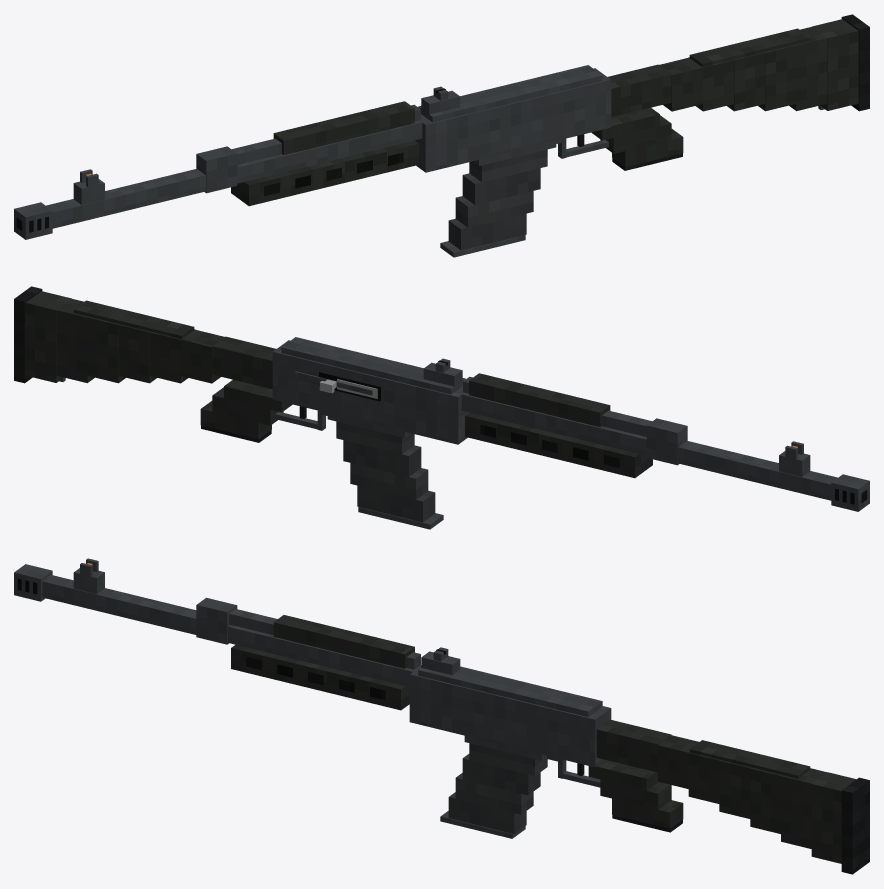
The model's file is Sayan12.glb.
The picture shows the model from 3 angles, top to bottom: view 1: azimuth 30°, elevation 25°; view 2: azimuth 150°, elevation 25°; view 3: azimuth 330°, elevation 25°; orthographic projection.
Visible parts, largest first — view 1: Receiver, Barrel, Lower handguard, Upper handguard, Dust cover, Stock step 5, Stock neck, Stock step 4, Stock step 3, Magazine step 3, Magazine step 1, Cheek riser (+16 smaller); view 2: Receiver, Barrel, Lower handguard, Upper handguard, Dust cover, Stock step 5, Stock neck, Stock step 4, Stock step 3, Magazine step 3, Magazine step 1, Cheek riser (+16 smaller); view 3: Receiver, Barrel, Lower handguard, Upper handguard, Dust cover, Stock step 5, Stock neck, Butt pad, Stock step 4, Stock step 3, Cheek riser, Stock step 2 (+13 smaller).
Boxes of the visible parts, <box> form: Receiver: <box>415,68,611,172</box>; Barrel: <box>46,120,422,228</box>; Lower handguard: <box>231,140,418,206</box>; Upper handguard: <box>273,101,414,154</box>; Dust cover: <box>418,65,602,122</box>; Stock step 5: <box>812,19,858,110</box>; Stock neck: <box>608,64,671,117</box>; Stock step 4: <box>789,27,827,111</box>; Stock step 3: <box>758,44,796,111</box>; Magazine step 3: <box>448,213,526,250</box>; Magazine step 1: <box>462,168,540,204</box>; Cheek riser: <box>689,28,810,66</box>; Receiver: <box>272,340,468,444</box>; Barrel: <box>461,392,837,500</box>; Lower handguard: <box>465,412,652,478</box>; Upper handguard: <box>469,373,610,426</box>; Dust cover: <box>281,337,465,394</box>; Stock step 5: <box>25,291,71,382</box>; Stock neck: <box>212,336,275,389</box>; Stock step 4: <box>56,299,94,383</box>; Stock step 3: <box>87,316,125,383</box>; Magazine step 3: <box>357,485,435,522</box>; Magazine step 1: <box>343,440,421,476</box>; Cheek riser: <box>73,300,194,338</box>; Receiver: <box>409,666,611,767</box>; Barrel: <box>42,575,421,686</box>; Lower handguard: <box>231,644,409,710</box>; Upper handguard: <box>273,615,414,668</box>; Dust cover: <box>418,666,602,716</box>; Stock step 5: <box>811,772,856,863</box>; Stock neck: <box>596,719,671,772</box>; Butt pad: <box>841,777,869,874</box>; Stock step 4: <box>781,768,826,848</box>; Stock step 3: <box>750,767,781,833</box>; Cheek riser: <box>689,740,810,778</box>; Stock step 2: <box>719,760,751,818</box>.
Bounding box in the file's own units: 1.09 × 0.206 × 0.0546.
Materials: 1 (1 with a texture image).
